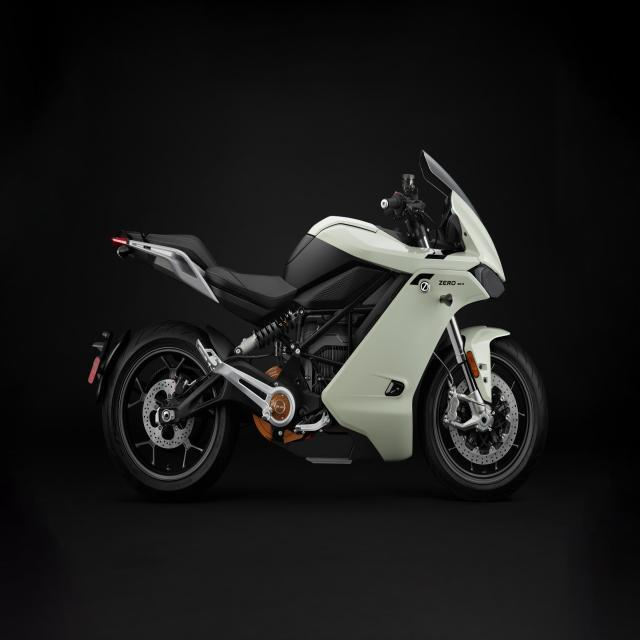motorcycle: (87, 148, 549, 502)
